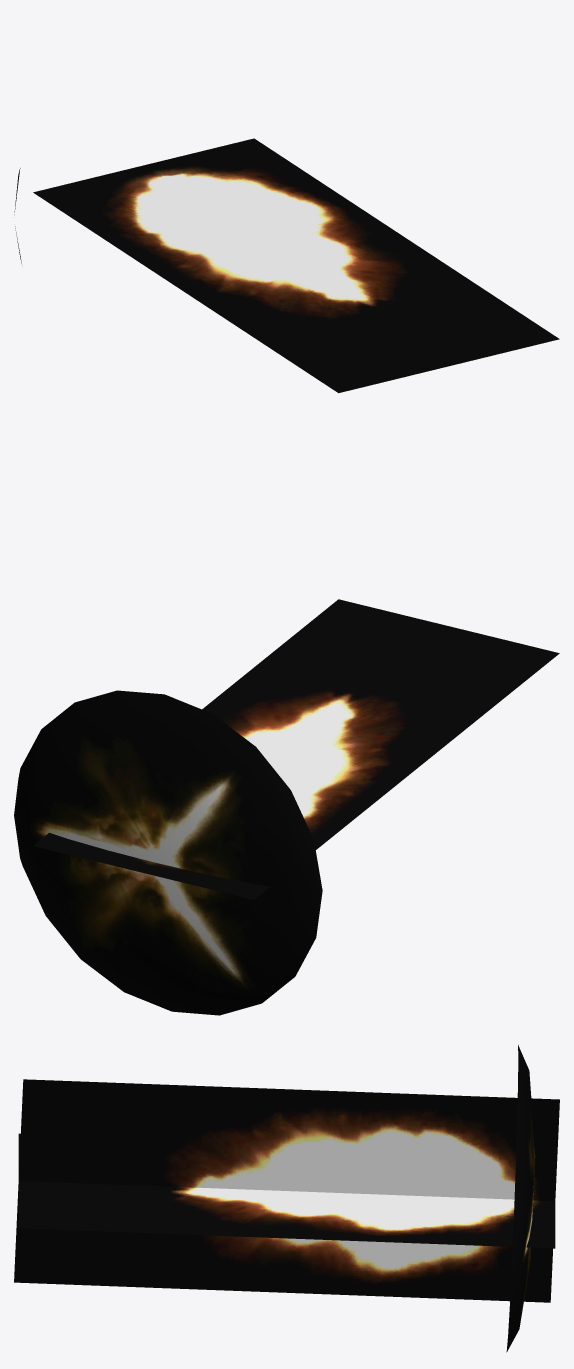
The model's file is SCAR-20.glb.
The picture shows the model from 3 angles, top to bottom: view 1: azimuth 30°, elevation 25°; view 2: azimuth 150°, elevation 25°; view 3: azimuth 270°, elevation 25°; orthographic projection. The views are drawn at different scales.
Visible parts, largest first — view 1: MuzzleFlash; view 2: MuzzleFlash; view 3: MuzzleFlash.
Part boxes in pixels (bbox=[...]): MuzzleFlash: bbox=[14, 138, 559, 393]; MuzzleFlash: bbox=[14, 599, 559, 1015]; MuzzleFlash: bbox=[14, 1045, 559, 1352].
Size of the model in its own units: 0.2492 by 0.249 by 0.4349.
1 material, 1 textured.
